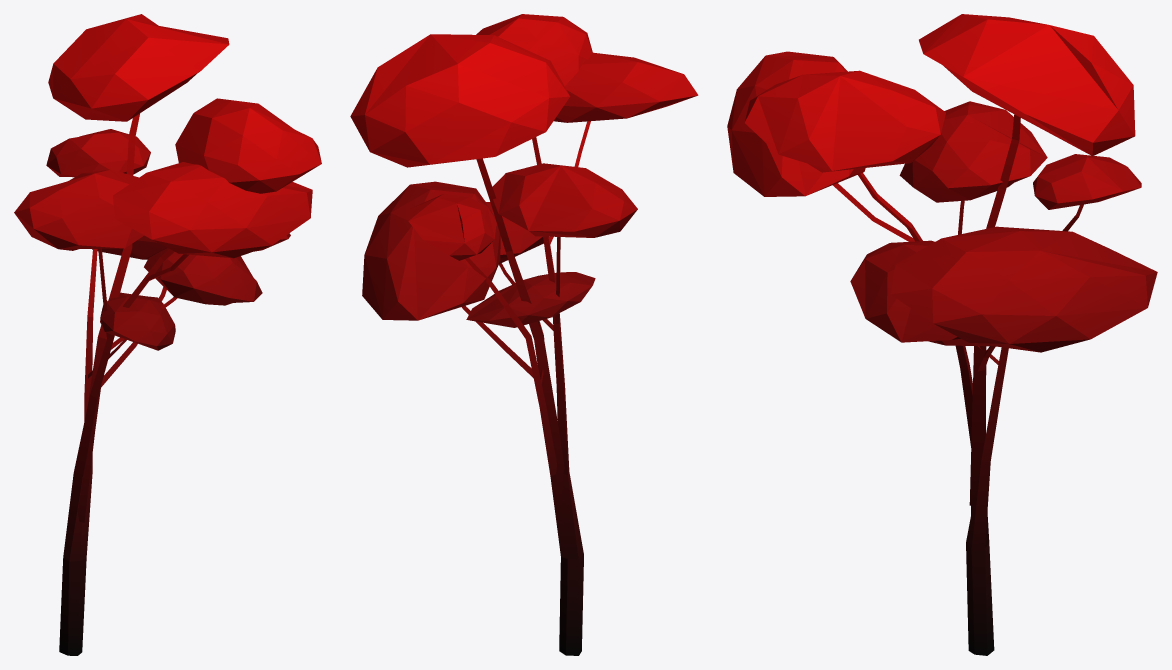
File: TreeCedar01.fbx
3 renders of one model, left to right at view 1: azimuth 30°, elevation 25°; view 2: azimuth 150°, elevation 25°; view 3: azimuth 270°, elevation 25°, orthographic. The views are drawn at different scales.
Visible parts, largest first — view 1: TreeCedar01_LOD0; view 2: TreeCedar01_LOD0; view 3: TreeCedar01_LOD0.
Boxes of the visible parts, x1,y1,x2,y2 form: TreeCedar01_LOD0: (14, 14, 321, 655); TreeCedar01_LOD0: (350, 14, 698, 655); TreeCedar01_LOD0: (727, 14, 1157, 655).
Size of what is drawn, in the model's own units: 274 by 618 by 357.
